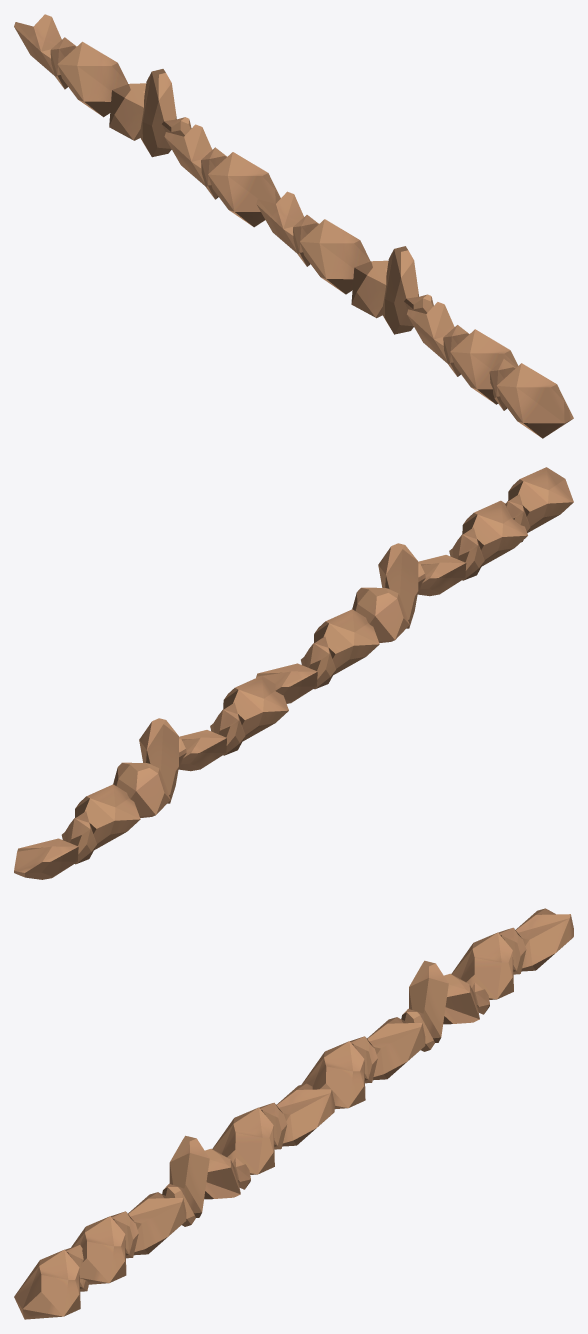
The model's file is StoneOutline2.fbx.
3 renders of one model, top to bottom at view 1: azimuth 30°, elevation 25°; view 2: azimuth 150°, elevation 25°; view 3: azimuth 330°, elevation 25°, orthographic.
Parts seen in each view (by area): view 1: STONEX; view 2: STONEX; view 3: STONEX.
Boxes of the visible parts, <box> form: STONEX: <box>14,14,573,438</box>; STONEX: <box>14,467,573,879</box>; STONEX: <box>14,908,573,1319</box>.
Size of the model in its own units: 1361 by 1953 by 23176.
Materials: 1 (1 with a texture image).
